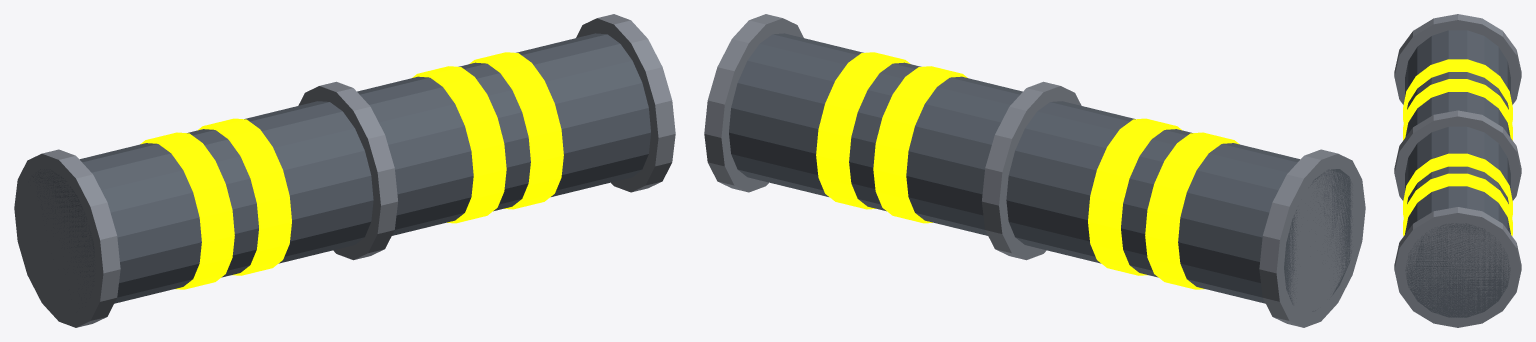
Rendered from prop_linha_viva_modular.glb.
3 renders of one model, left to right at view 1: azimuth 30°, elevation 25°; view 2: azimuth 150°, elevation 25°; view 3: azimuth 270°, elevation 25°, orthographic. The views are drawn at different scales.
Visible parts, largest first — view 1: LivePipe_4m, PipeFlange_-1.94, HazardBand_-1.15, HazardBand_0.75, HazardBand_1.15, HazardBand_-0.75, PipeFlange_1.94, PipeFlange_0.0; view 2: LivePipe_4m, PipeFlange_-1.94, HazardBand_-1.15, HazardBand_0.75, HazardBand_1.15, HazardBand_-0.75, PipeFlange_1.94, PipeFlange_0.0; view 3: LivePipe_4m, PipeFlange_1.94, PipeFlange_-1.94, PipeFlange_0.0, HazardBand_0.75, HazardBand_1.15, HazardBand_-0.75, HazardBand_-1.15.
Boxes of the visible parts, x1,y1,x2,y2 form: LivePipe_4m: (32,33,650,303); PipeFlange_-1.94: (14,149,120,327); HazardBand_-1.15: (140,132,234,289); HazardBand_0.75: (412,66,506,223); HazardBand_1.15: (469,52,563,209); HazardBand_-0.75: (197,118,291,275); PipeFlange_1.94: (576,14,675,192); PipeFlange_0.0: (298,81,397,260); LivePipe_4m: (729,33,1352,311); PipeFlange_-1.94: (1259,149,1365,327); HazardBand_-1.15: (1145,132,1239,289); HazardBand_0.75: (873,66,967,223); HazardBand_1.15: (816,52,910,209); HazardBand_-0.75: (1088,118,1182,275); PipeFlange_1.94: (704,14,803,192); PipeFlange_0.0: (982,81,1081,260); LivePipe_4m: (1405,30,1510,317); PipeFlange_1.94: (1394,207,1521,327); PipeFlange_-1.94: (1394,14,1521,104); PipeFlange_0.0: (1394,110,1521,200); HazardBand_0.75: (1403,153,1512,217); HazardBand_1.15: (1403,173,1512,236); HazardBand_-0.75: (1403,79,1512,140); HazardBand_-1.15: (1403,59,1512,123).
Size of the model in its own units: 4 by 1.08 by 1.08.
